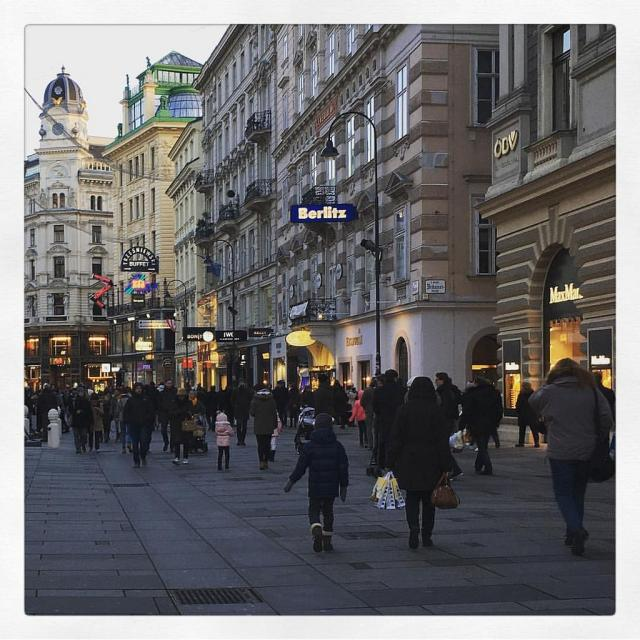body: (526, 356, 618, 558), (374, 373, 464, 550), (281, 410, 350, 553), (459, 371, 504, 477), (370, 368, 408, 477), (434, 370, 464, 482), (120, 380, 154, 469), (249, 380, 278, 471), (370, 373, 398, 466), (24, 384, 76, 434), (168, 386, 198, 466), (447, 376, 477, 452), (512, 380, 542, 448), (67, 386, 95, 454), (178, 388, 206, 454), (155, 377, 179, 453), (229, 377, 253, 447), (481, 378, 504, 450), (258, 401, 282, 463), (359, 376, 378, 450), (96, 386, 120, 443), (591, 369, 616, 422), (213, 411, 235, 471), (332, 378, 357, 429), (348, 389, 369, 449), (308, 373, 336, 417), (85, 391, 104, 453), (116, 386, 133, 454), (271, 378, 288, 428), (216, 380, 233, 426), (204, 384, 220, 432), (265, 376, 319, 389), (194, 382, 208, 430), (288, 381, 298, 428), (176, 375, 193, 392), (143, 378, 163, 392), (118, 378, 134, 391), (396, 375, 414, 386), (606, 434, 616, 452), (154, 420, 170, 431), (300, 390, 312, 404)
